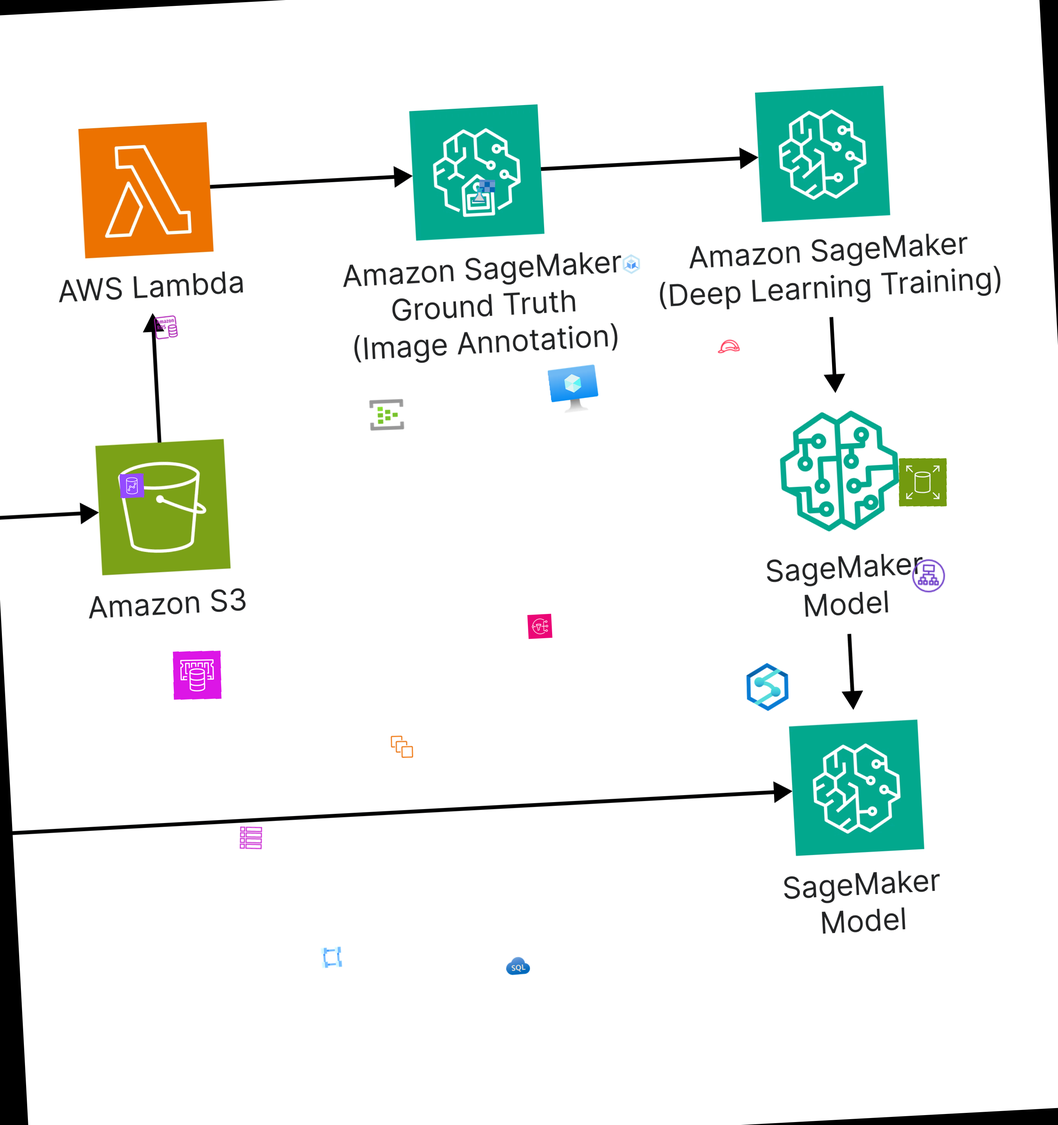aws_amazon_elastic_block_store: (896, 455, 949, 509)
aws_amazon_elasticache: (171, 648, 223, 701)
aws_amazon_redshift: (119, 472, 145, 499)
aws_amazon_simple_notification_service: (527, 613, 553, 639)
aws_aurora_amazon_rds_instance: (152, 313, 179, 341)
aws_dynamodb_table: (237, 824, 264, 852)
aws_ec2_instances: (388, 733, 415, 760)
aws_elastic_load_balancing_application_load_balancer: (908, 555, 949, 596)
aws_identity_access_management_role: (715, 333, 741, 359)
azure_event_hubs: (367, 395, 406, 434)
azure_machine_learning_studio_workspaces: (470, 177, 497, 205)
azure_sql: (505, 953, 531, 979)
azure_synapse_analytics: (741, 660, 794, 713)
azure_virtual_machine: (547, 363, 601, 418)
gcp_google_kubernetes_engine: (618, 251, 644, 277)
gcp_virtual_private_cloud: (319, 944, 344, 970)
